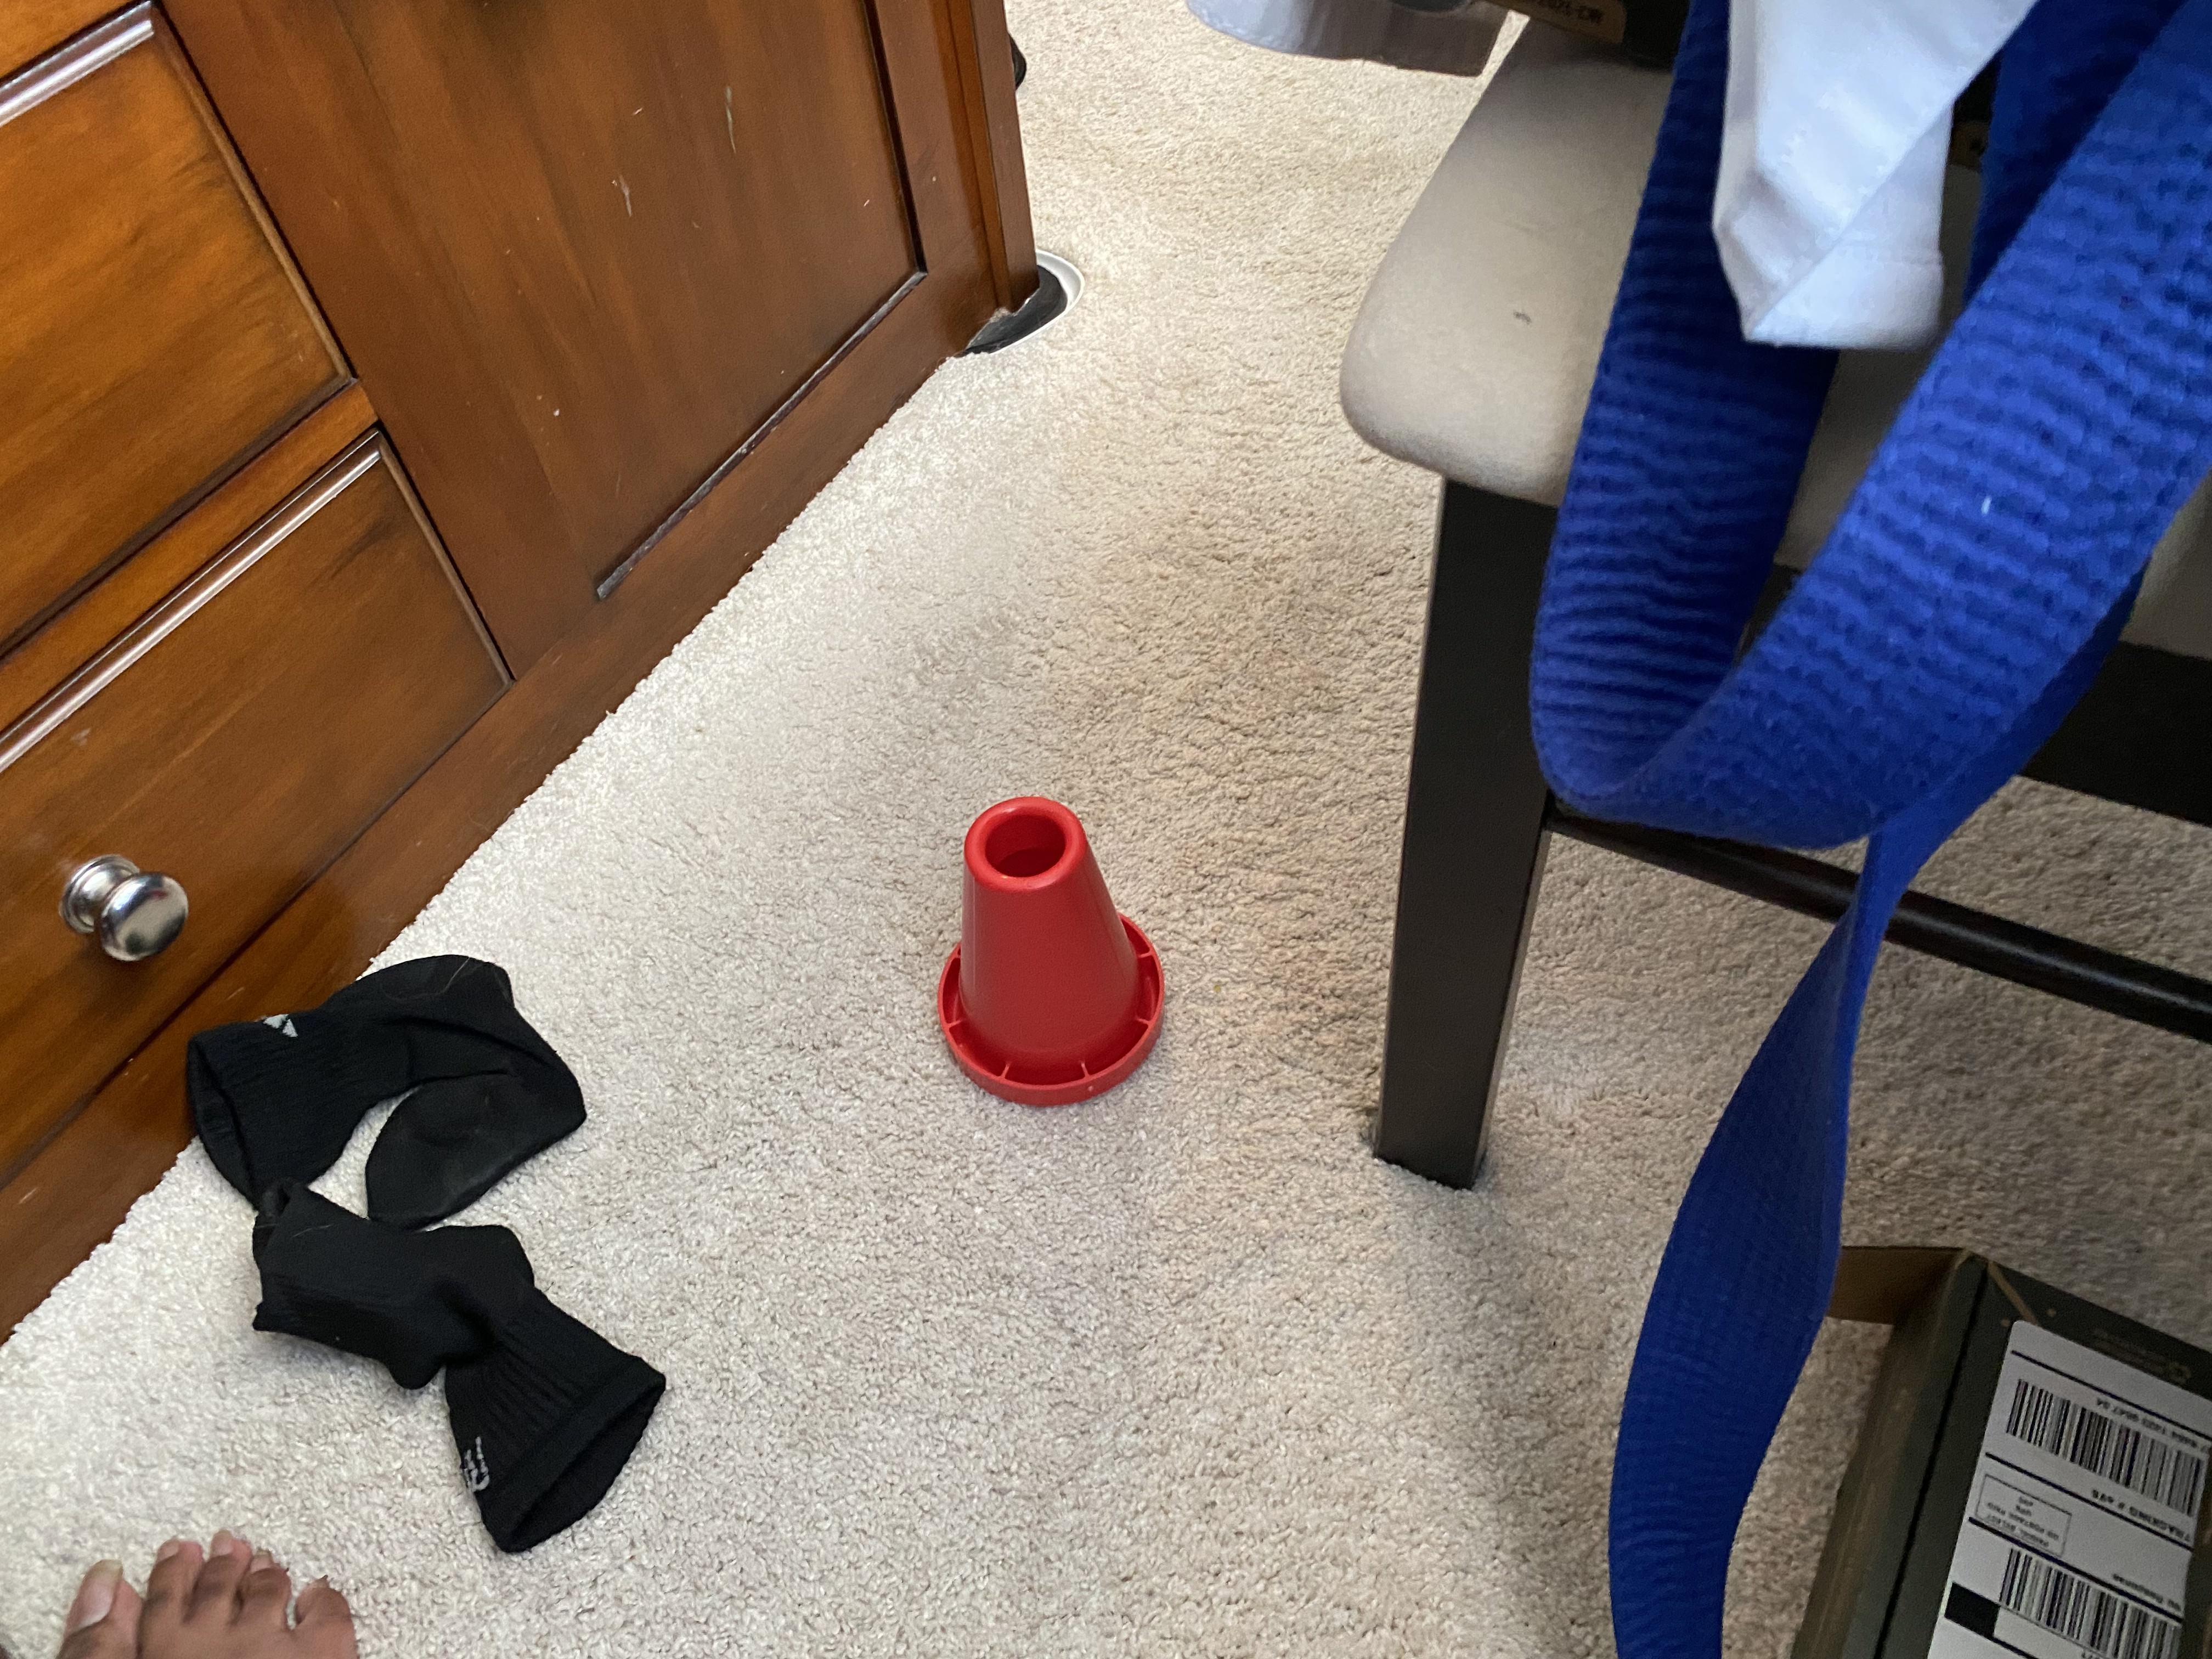redCone: (934, 791, 1174, 1112)
